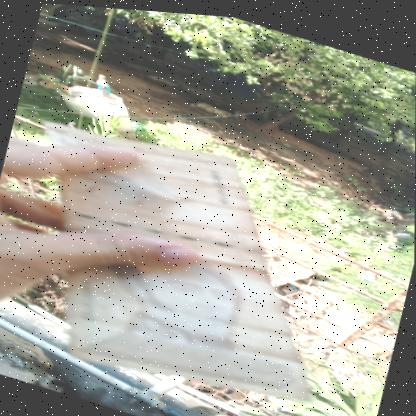five-front-vef: (0, 99, 359, 416)
